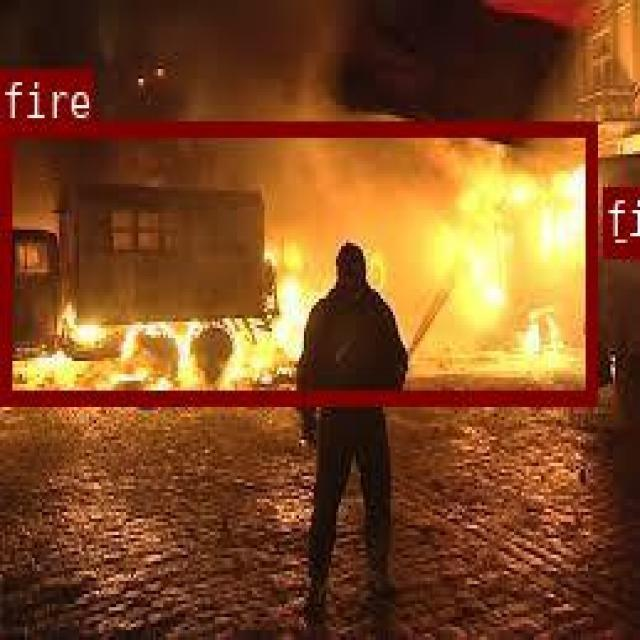fire: (0, 118, 596, 404), (602, 186, 635, 253)
